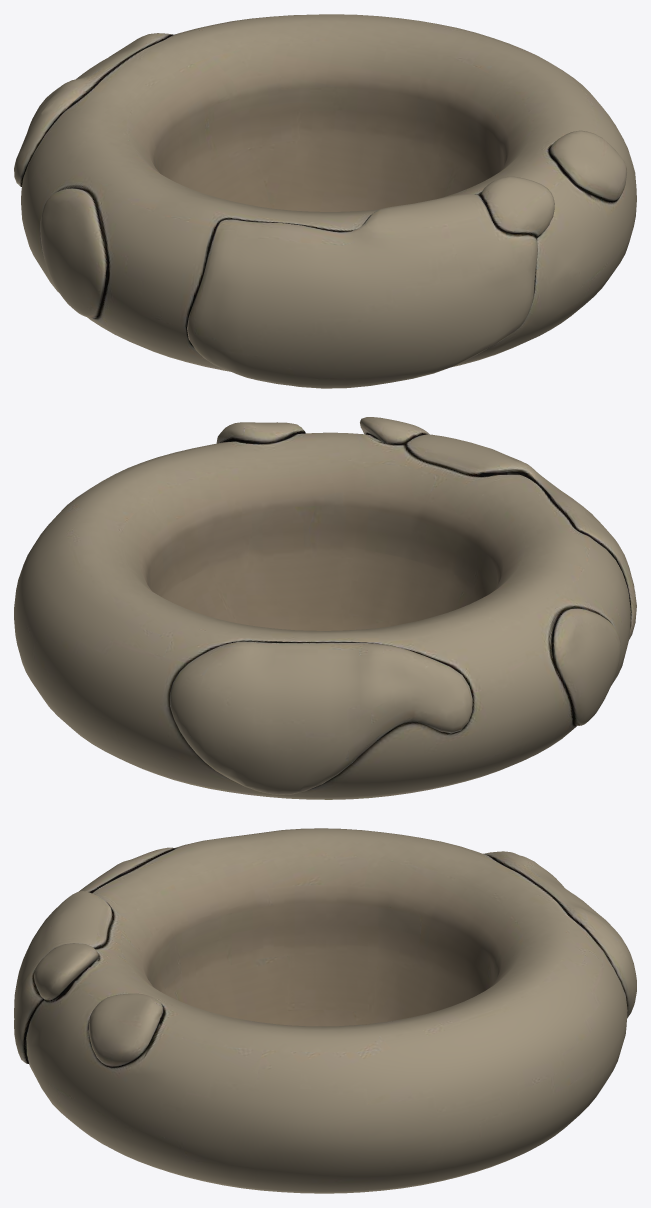
Rendered from env_nest_seesaw_01.glb.
3 renders of one model, top to bottom at view 1: azimuth 30°, elevation 25°; view 2: azimuth 150°, elevation 25°; view 3: azimuth 270°, elevation 25°, orthographic.
Visible parts, largest first — view 1: env_nest_seesaw_01; view 2: env_nest_seesaw_01; view 3: env_nest_seesaw_01.
Boxes of the visible parts, x1=… form: env_nest_seesaw_01: x1=14, y1=14, x2=636, y2=388; env_nest_seesaw_01: x1=14, y1=417, x2=636, y2=799; env_nest_seesaw_01: x1=14, y1=828, x2=636, y2=1193.
Bounding box in the file's own units: 2.43 × 1 × 2.43.
1 material, 1 textured.
